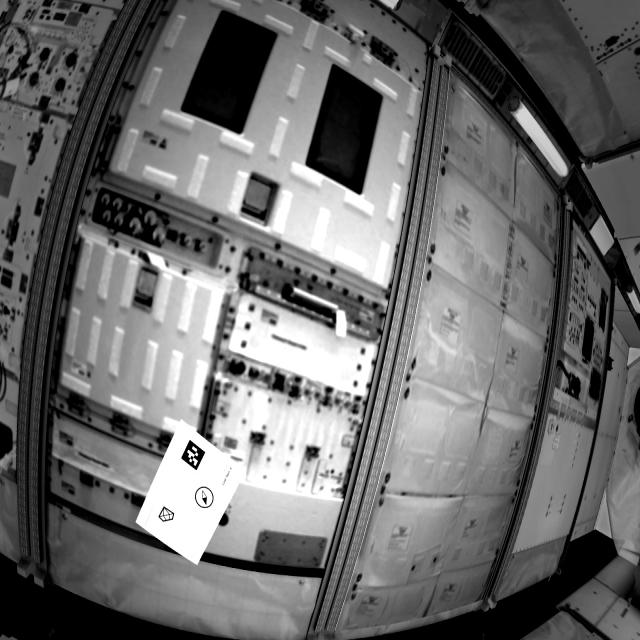compass: (195, 486, 215, 511)
diamond: (158, 505, 181, 525)
